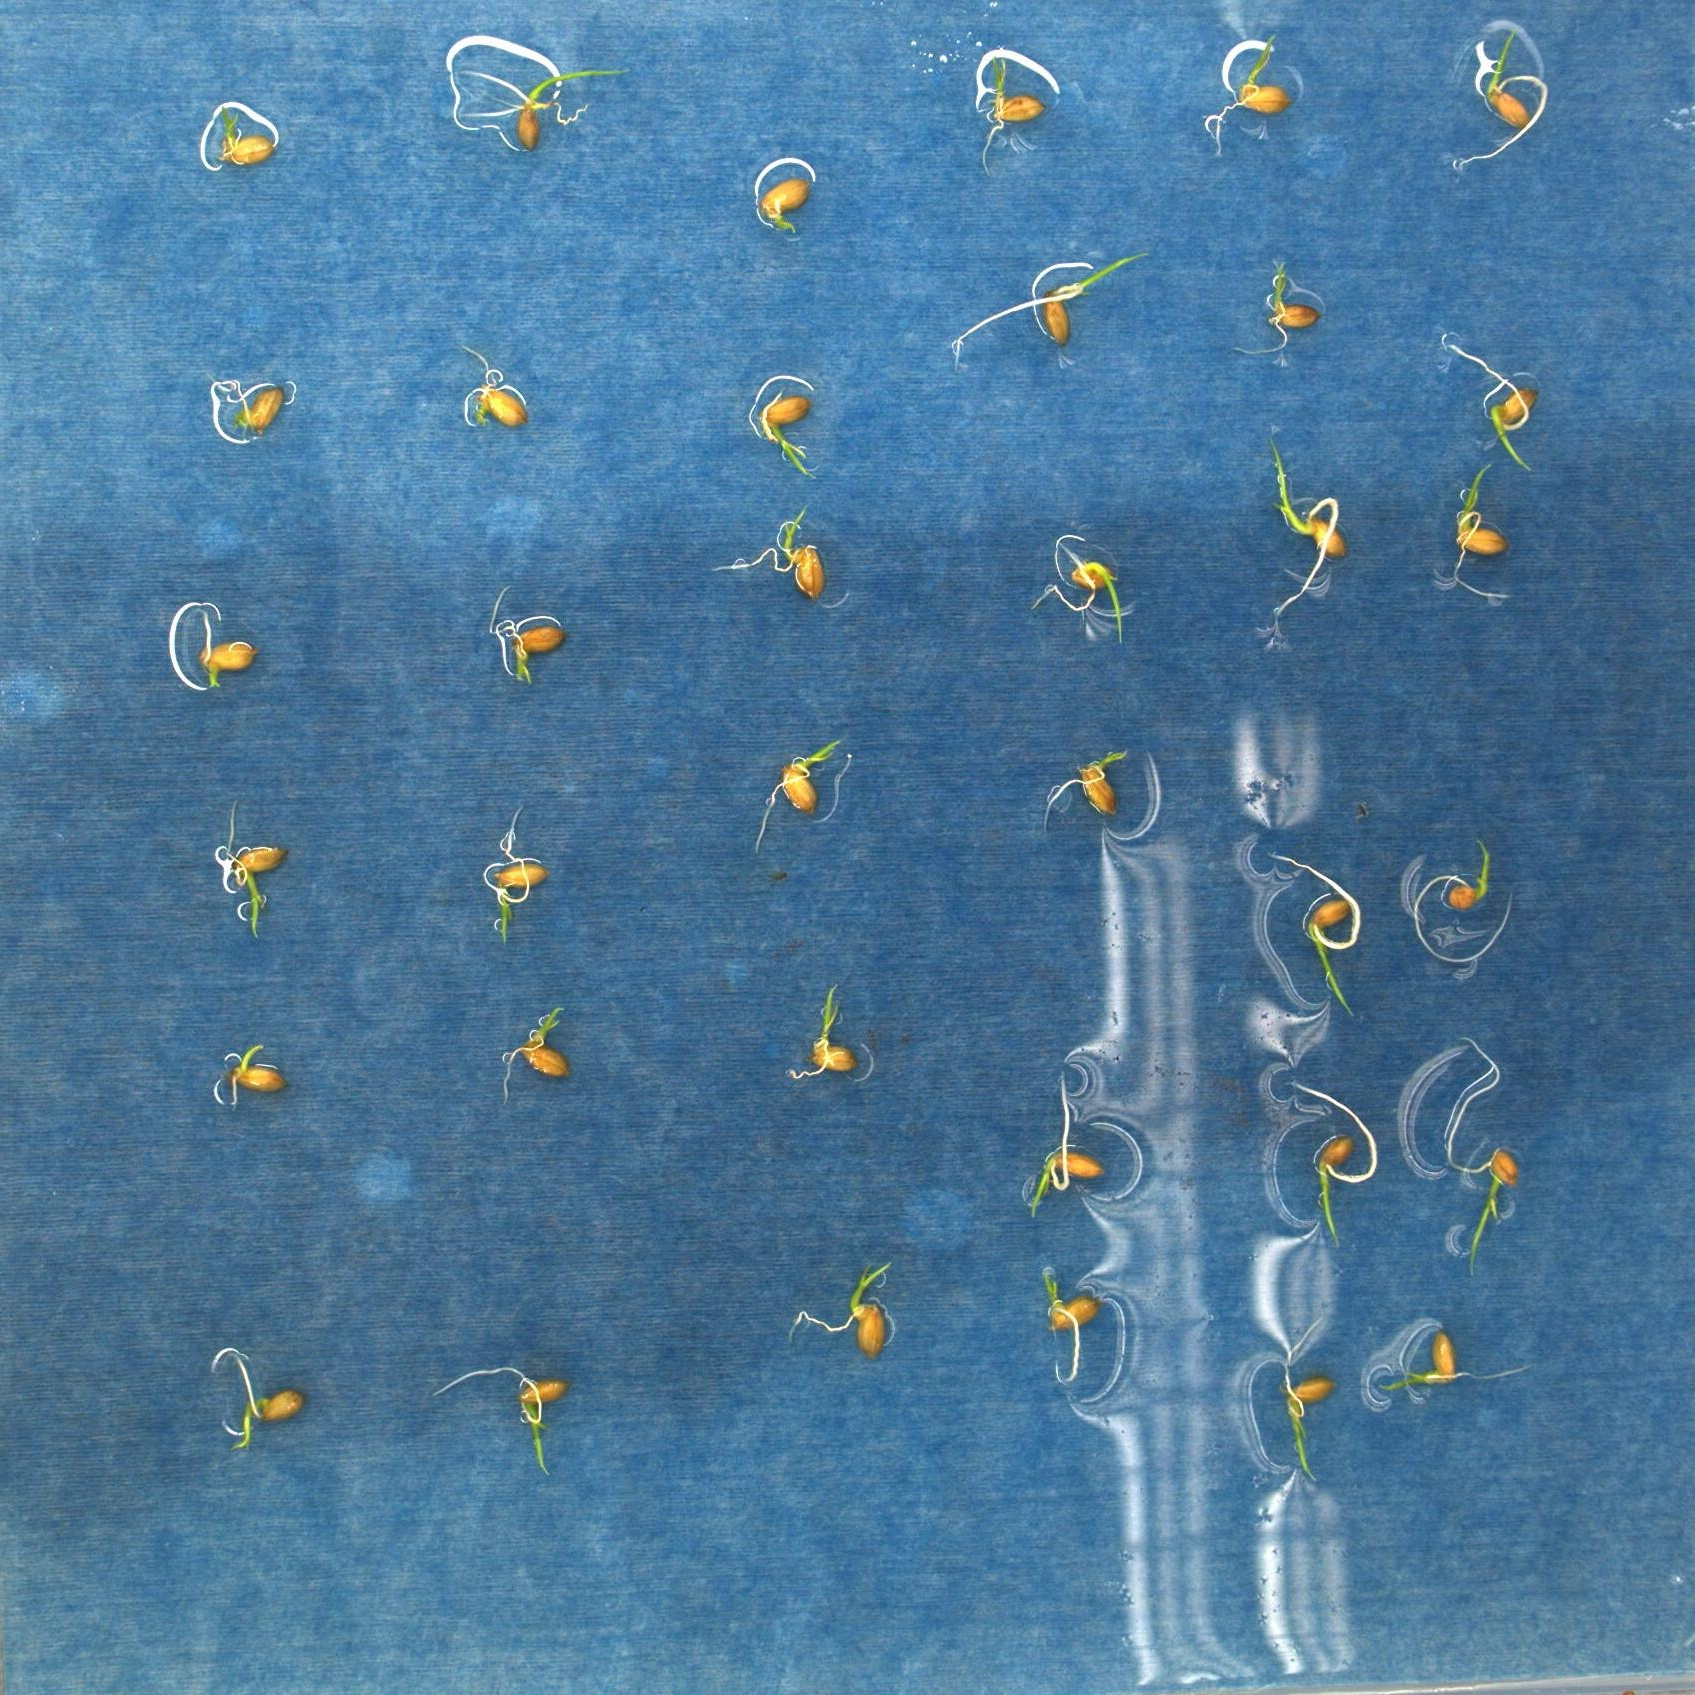not sprout: (461, 331, 529, 425), (210, 365, 282, 432), (196, 612, 245, 691), (753, 180, 807, 241)
sprout: (950, 255, 1147, 359), (1262, 841, 1360, 1024), (1445, 1037, 1516, 1279), (1260, 439, 1343, 636), (1288, 1069, 1378, 1246), (433, 1364, 570, 1473), (453, 62, 629, 144), (1454, 31, 1551, 168), (1444, 334, 1538, 470), (1414, 837, 1513, 964), (1433, 461, 1516, 599), (1031, 1074, 1107, 1218), (751, 739, 843, 855), (1205, 37, 1291, 154), (792, 1263, 893, 1363), (1035, 536, 1128, 643), (217, 802, 289, 938), (480, 809, 549, 941), (1285, 1312, 1340, 1481), (213, 1350, 304, 1450), (1228, 258, 1322, 352), (726, 508, 823, 601), (1381, 1330, 1530, 1388), (979, 42, 1045, 171), (497, 1009, 574, 1107), (1042, 1254, 1097, 1388), (1042, 748, 1133, 827), (490, 584, 563, 681), (782, 984, 855, 1069), (761, 386, 816, 475), (217, 1045, 289, 1107), (208, 106, 267, 163)
